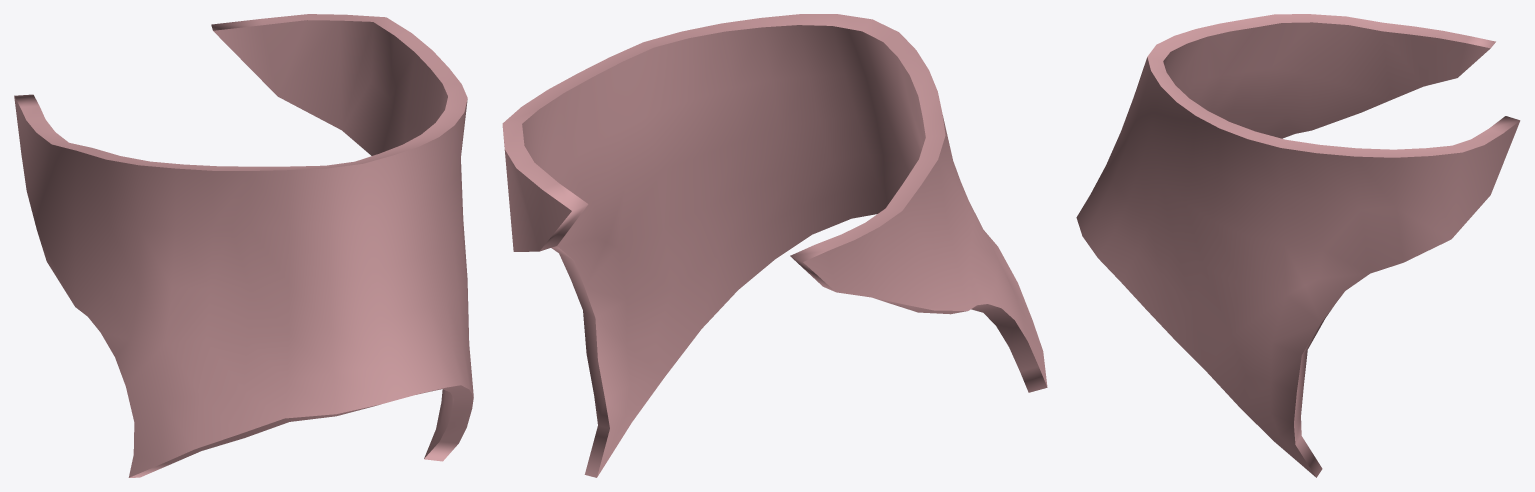
The picture shows the model from 3 angles, left to right: view 1: azimuth 30°, elevation 25°; view 2: azimuth 150°, elevation 25°; view 3: azimuth 270°, elevation 25°; orthographic projection. The views are drawn at different scales.
Parts seen in each view (by area): view 1: ZA_9d9dbfb811b834b4; view 2: ZA_9d9dbfb811b834b4; view 3: ZA_9d9dbfb811b834b4.
Part boxes in pixels (box(x1,y1,x2,y2)): ZA_9d9dbfb811b834b4: box(14, 14, 473, 477); ZA_9d9dbfb811b834b4: box(502, 14, 1047, 477); ZA_9d9dbfb811b834b4: box(1076, 14, 1520, 477).
Bounding box in the file's own units: 0.0701 × 0.0699 × 0.0809.
